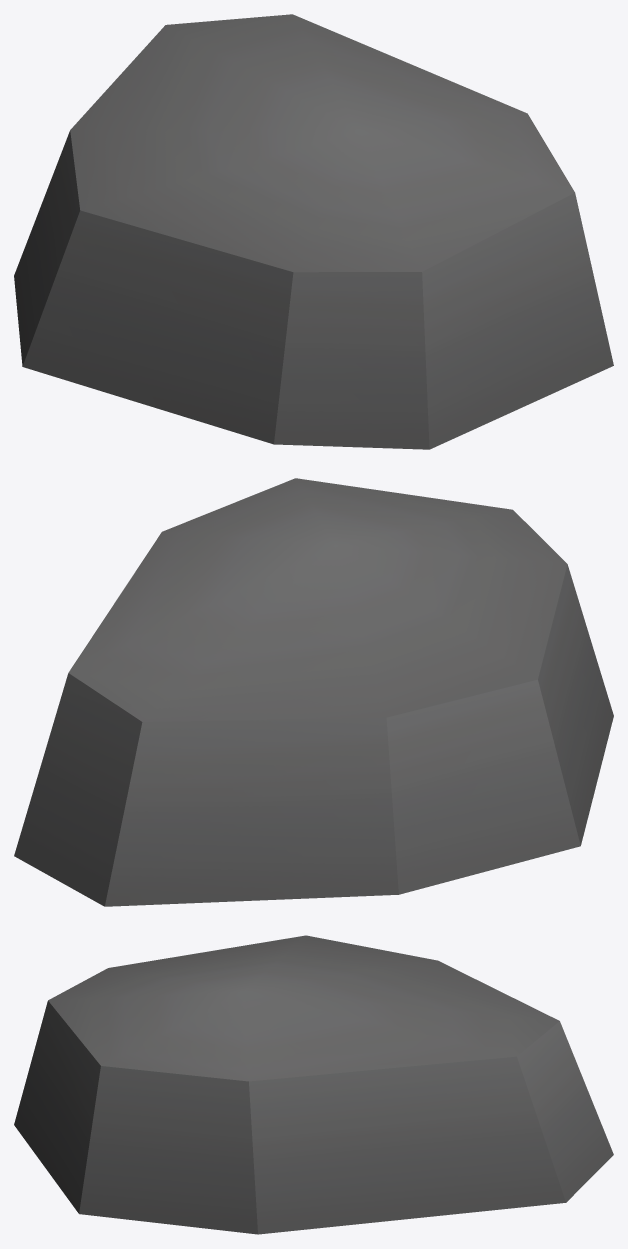
File: Rock_A_2.glb
3 views of the same model, one above another, from view 1: azimuth 30°, elevation 25°; view 2: azimuth 150°, elevation 25°; view 3: azimuth 270°, elevation 25° (orthographic). The views are drawn at different scales.
Visible parts, largest first — view 1: Rock_A_2; view 2: Rock_A_2; view 3: Rock_A_2.
Boxes of the visible parts, box(x1,y1,x2,y2) form: Rock_A_2: box(14, 14, 613, 449); Rock_A_2: box(14, 478, 613, 906); Rock_A_2: box(14, 935, 613, 1234).
Size of the model in its own units: 0.586 by 0.2234 by 0.7531.
1 material, 1 textured.
